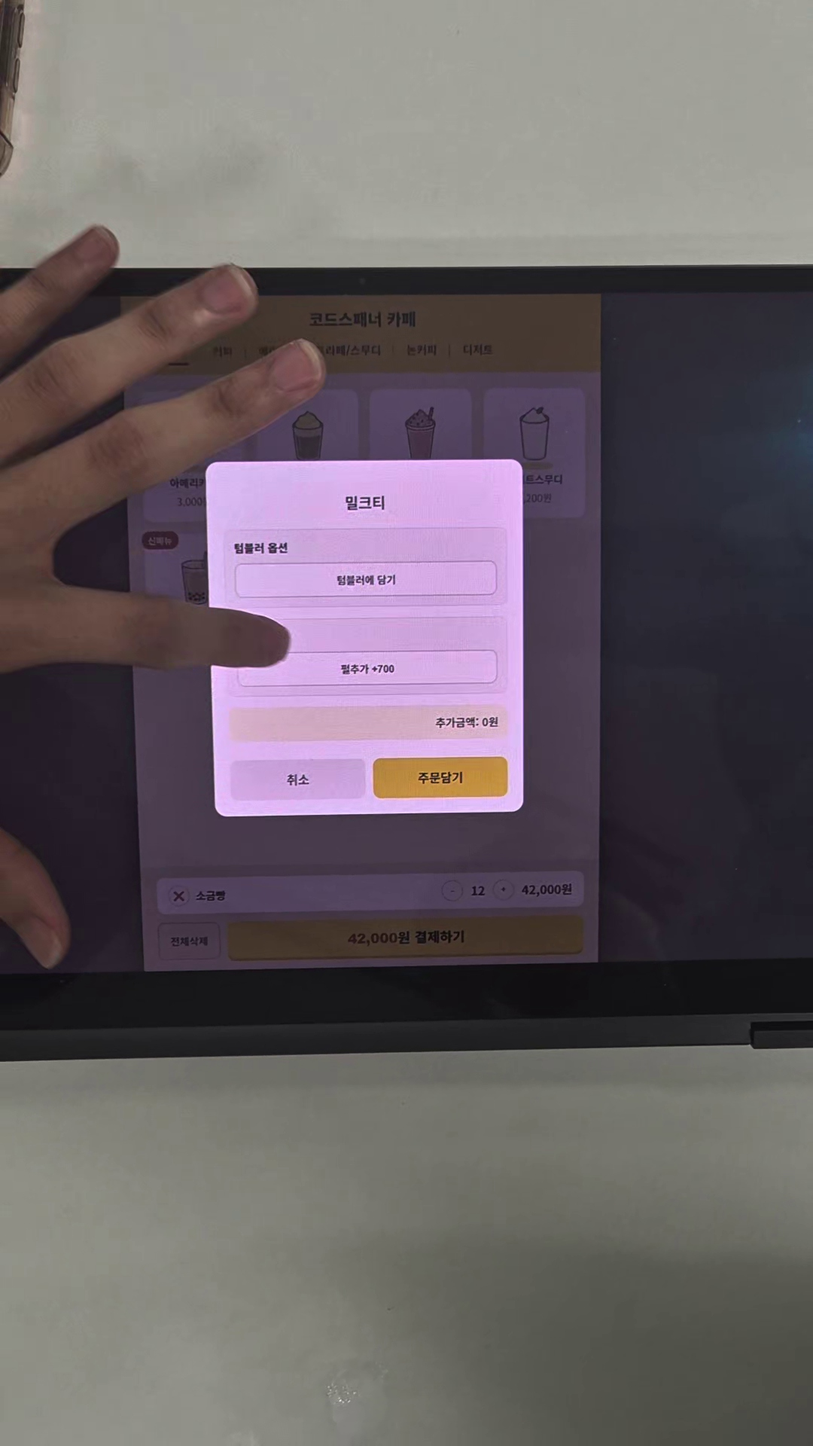action_button: (374, 758, 510, 797), (232, 759, 364, 797)
option_button: (238, 646, 499, 687), (239, 562, 495, 595)
popup_modal: (209, 457, 525, 815)
